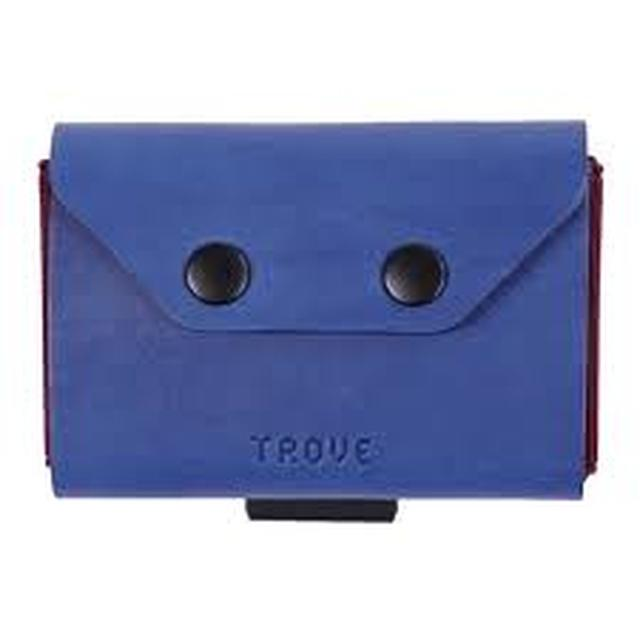wallet: (28, 86, 616, 566)
